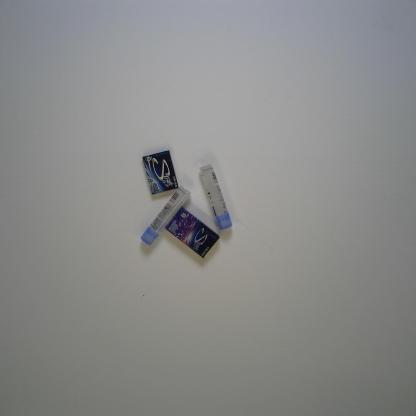Gum: (164, 206, 221, 260), (142, 149, 179, 195)
Stationery: (140, 185, 191, 246), (199, 163, 233, 230)
